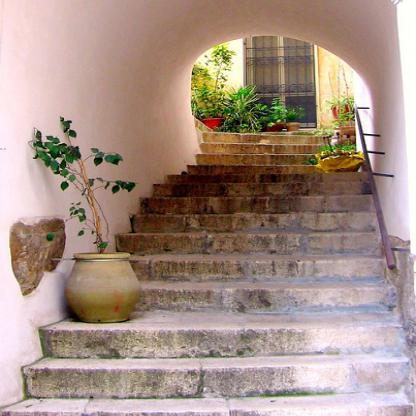stairs: (144, 226, 375, 416)
